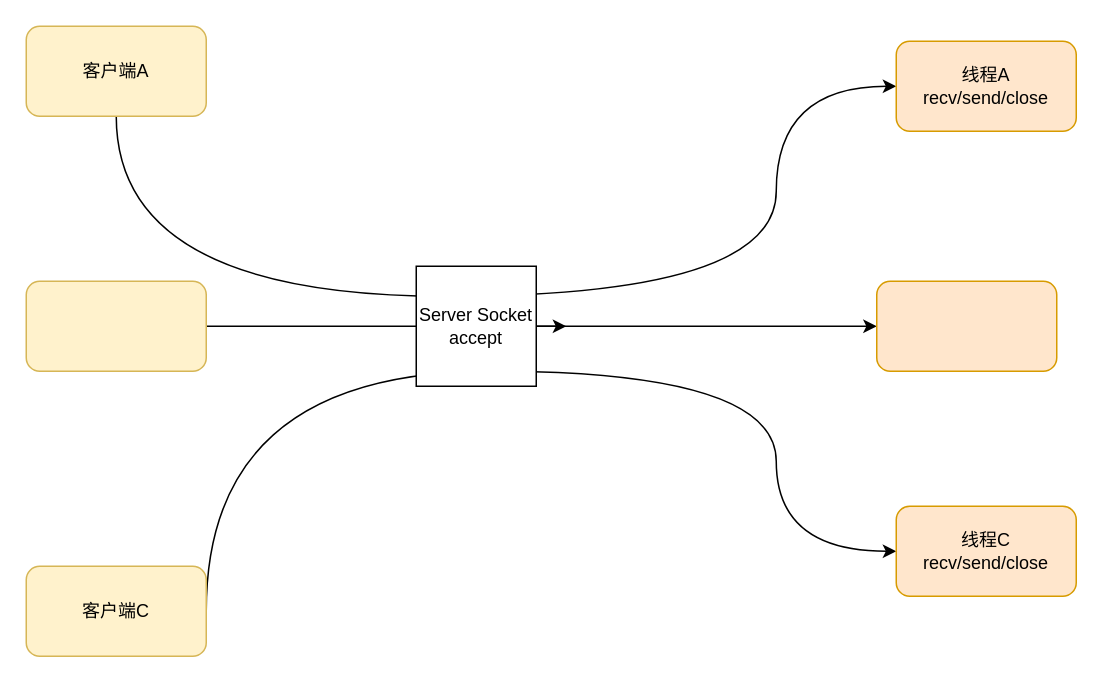
Some shapes in this 1103 by 683 pixel diagram are drawn without their labels. The shapes that lost their labels are listed below. From the top down, each one's centre as x and y in pixels, then its label:
At (115,325): "客户端B".
At (966,325): "线程B recv/send/close".
